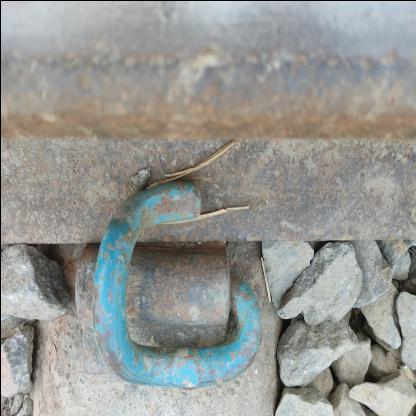Non Defective: (46, 134, 280, 402)
